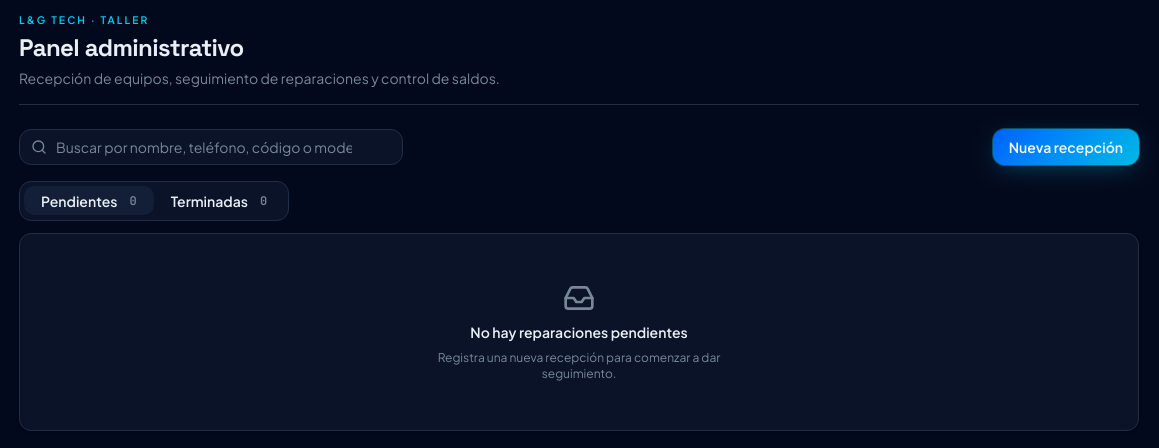
Scenario: AdminPage access gate › lists the orders returned by the admin search
Type "María" into the search field with test id "admin.order.search_input" at (211, 147), box [19,129,403,165]
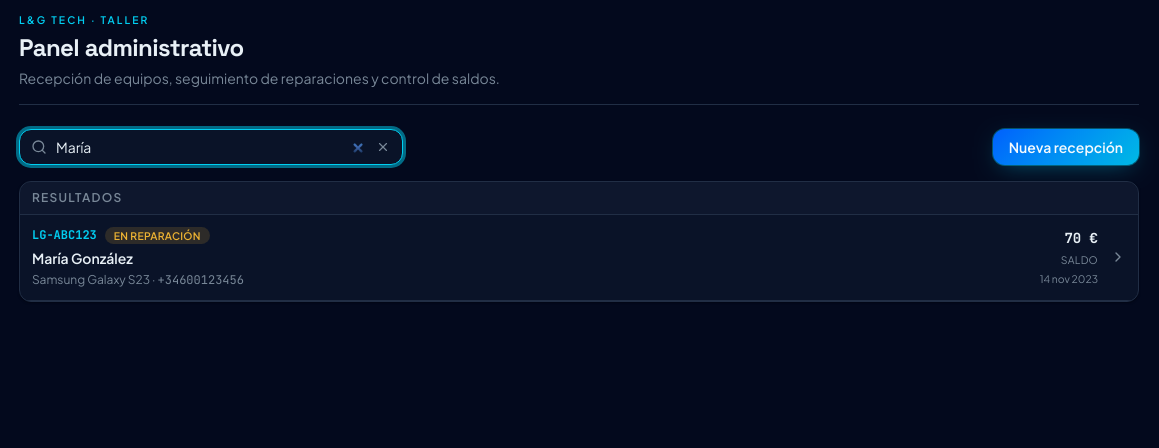
Expected: the button with test id "admin.order.item.1" is shown, [20,215,1138,301]
Expected: the text "LG-ABC123" is shown, [32,227,97,243]
Expected: the text "María González" is shown, [32,249,133,267]
